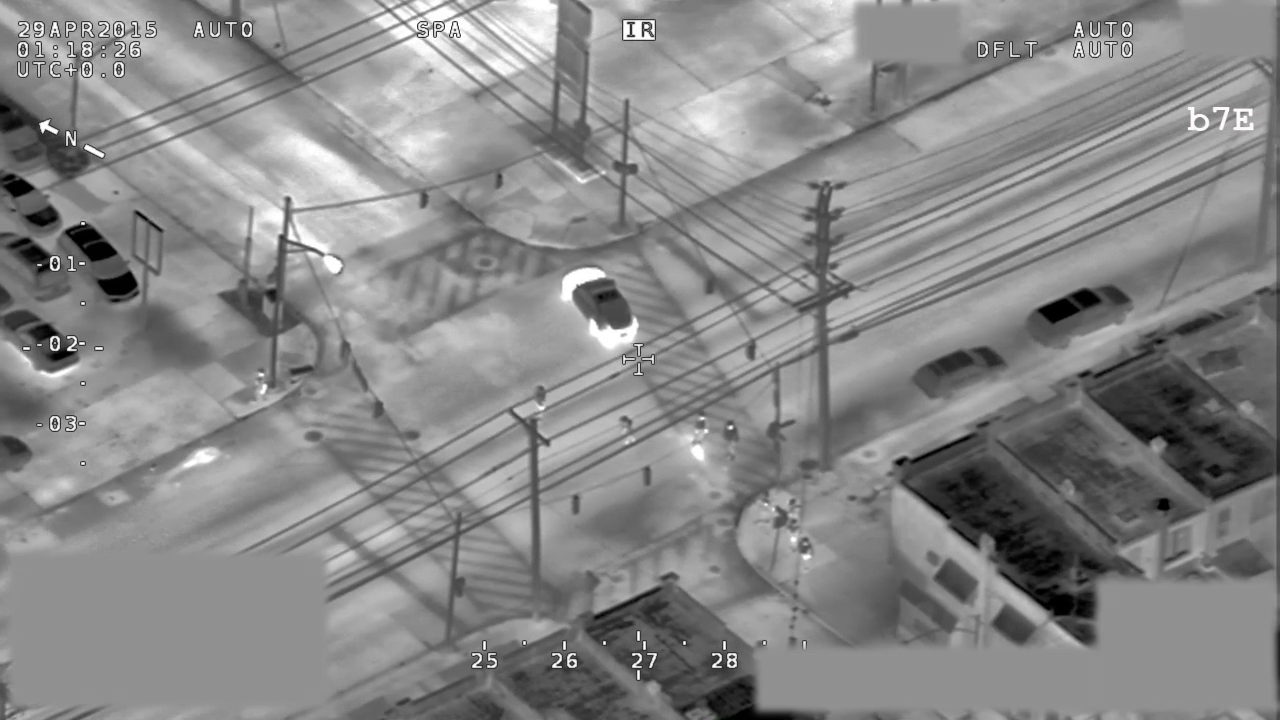vehicle: (1021, 280, 1136, 353), (56, 221, 148, 308), (559, 260, 642, 354), (907, 344, 1012, 404), (1, 304, 86, 376), (1, 231, 70, 312), (1, 174, 63, 243), (1, 100, 52, 181), (1, 432, 34, 480)
